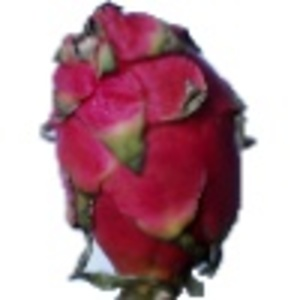pitaia: (39, 1, 258, 300)
